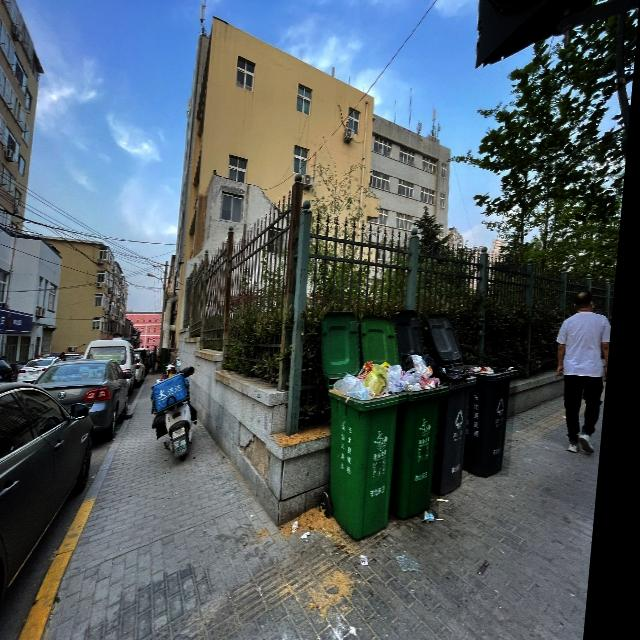overflow: (324, 359, 418, 539), (398, 352, 460, 520), (435, 365, 485, 494), (470, 364, 526, 477)
